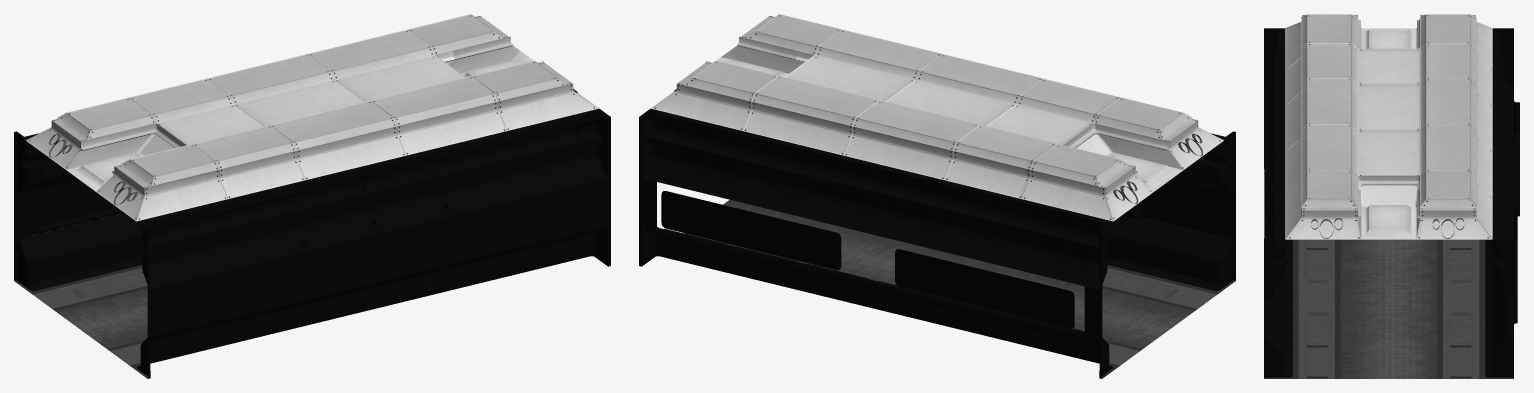
Rendered from HallwayWindow.fbx.
3 renders of one model, left to right at view 1: azimuth 30°, elevation 25°; view 2: azimuth 150°, elevation 25°; view 3: azimuth 270°, elevation 25°, orthographic. The views are drawn at different scales.
Parts seen in each view (by area): view 1: HallwayWindow001; view 2: HallwayWindow001; view 3: HallwayWindow001.
Boxes of the visible parts, bbox=[...] form: HallwayWindow001: bbox=[14, 14, 610, 378]; HallwayWindow001: bbox=[639, 14, 1235, 378]; HallwayWindow001: bbox=[1264, 14, 1519, 378].
Size of the model in its own units: 1300 by 478 by 665.
